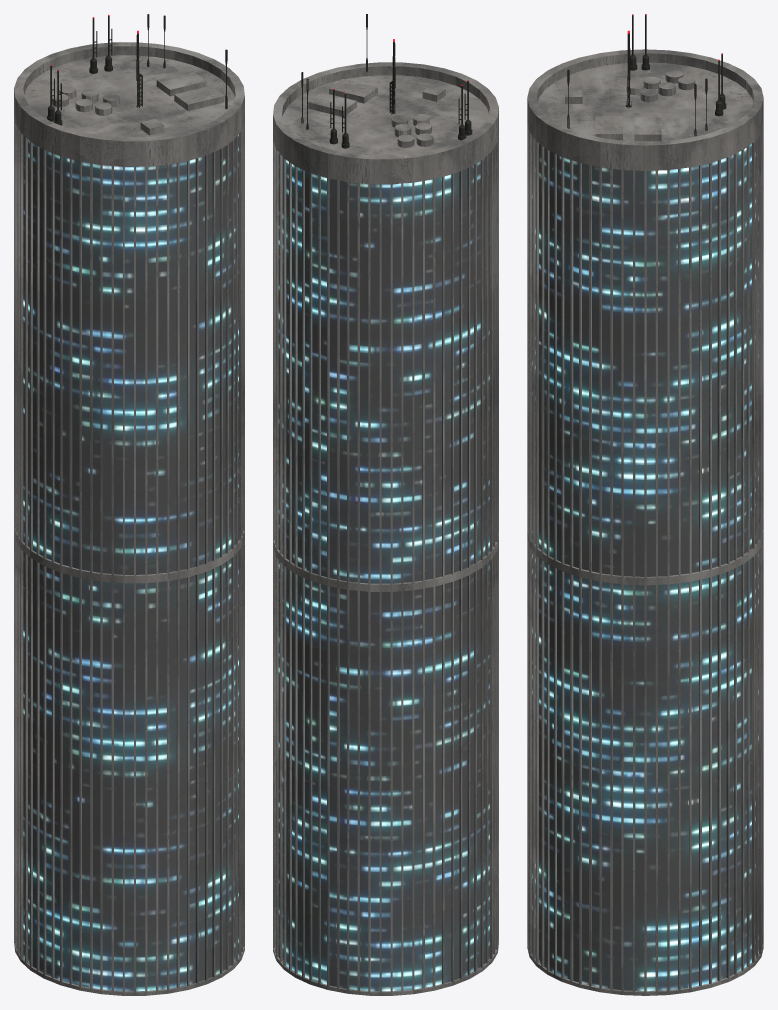
The model's file is cylinder-building-2.glb.
3 views of the same model, side by side, from view 1: azimuth 30°, elevation 25°; view 2: azimuth 150°, elevation 25°; view 3: azimuth 270°, elevation 25° (orthographic). The views are drawn at different scales.
Visible parts, largest first — view 1: cylinder-building-new-texture; view 2: cylinder-building-new-texture; view 3: cylinder-building-new-texture.
Part boxes in pixels (x1,y1,x2,y2): cylinder-building-new-texture: [14, 14, 244, 995]; cylinder-building-new-texture: [273, 14, 498, 995]; cylinder-building-new-texture: [527, 14, 763, 995].
Size of the model in its own units: 56.72 by 252 by 58.88.
Materials: 4 (2 with a texture image).
